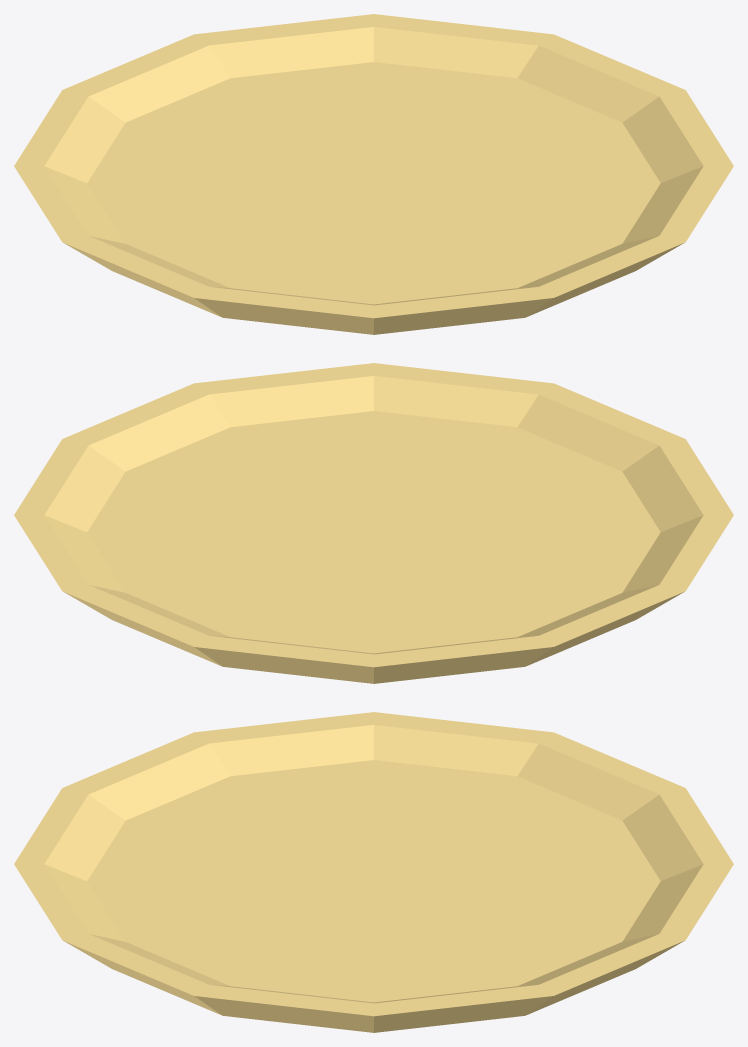
The model's file is Prop_Christmas_Cookie_Plate_01.FBX.
3 views of the same model, one above another, from view 1: azimuth 30°, elevation 25°; view 2: azimuth 150°, elevation 25°; view 3: azimuth 270°, elevation 25° (orthographic).
Visible parts, largest first — view 1: Prop_Christmas_Cookie_Plate_01; view 2: Prop_Christmas_Cookie_Plate_01; view 3: Prop_Christmas_Cookie_Plate_01.
Part boxes in pixels (left/top/right/bottom): Prop_Christmas_Cookie_Plate_01: left=14, top=14, right=733, bottom=334; Prop_Christmas_Cookie_Plate_01: left=14, top=363, right=733, bottom=683; Prop_Christmas_Cookie_Plate_01: left=14, top=712, right=733, bottom=1032.
Size of the model in its own units: 347 by 21.8 by 347.
